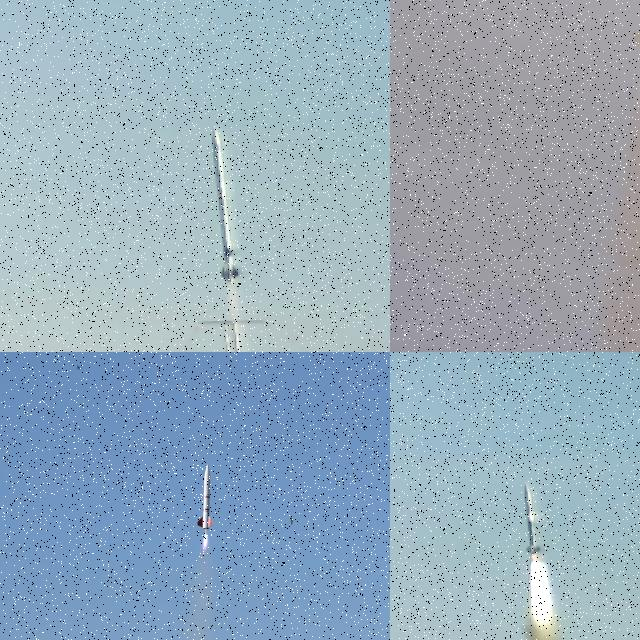Rocket: (211, 129, 239, 282), (524, 482, 542, 554), (197, 464, 213, 530)
